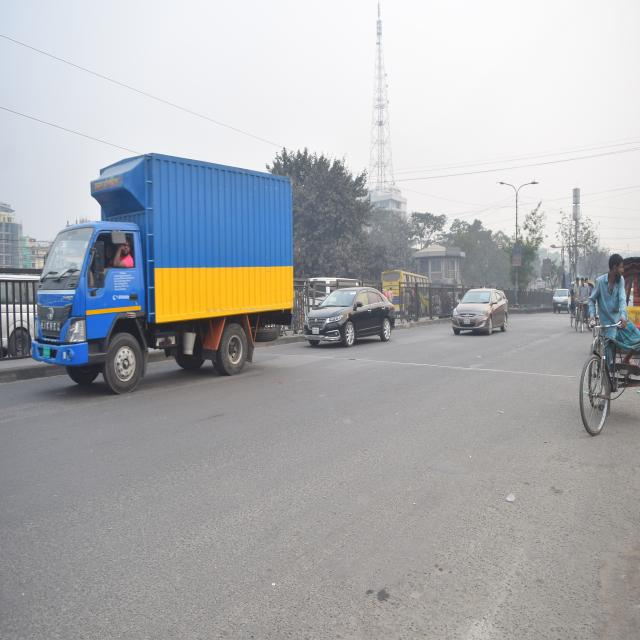car: (292, 272, 412, 370), (446, 276, 519, 347)
pickup-van: (11, 148, 302, 396)
